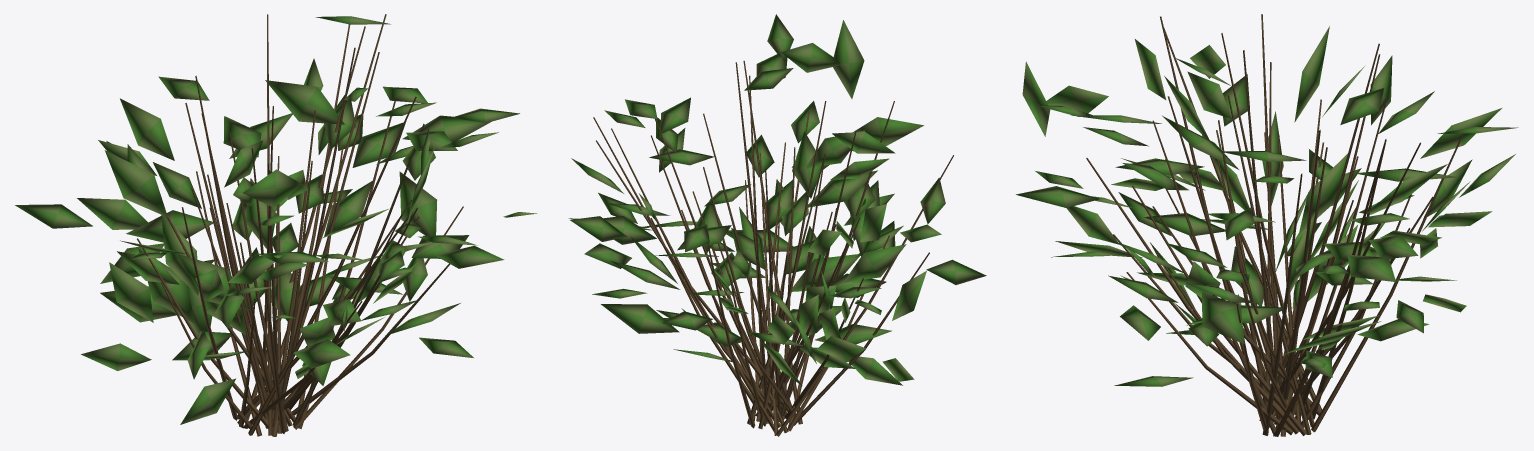
3 views of the same model, side by side, from view 1: azimuth 30°, elevation 25°; view 2: azimuth 150°, elevation 25°; view 3: azimuth 270°, elevation 25° (orthographic). The views are drawn at different scales.
Parts seen in each view (by area): view 1: t12 browser / editable leafy twigs, t12 browser / editable woody branches; view 2: t12 browser / editable leafy twigs, t12 browser / editable woody branches; view 3: t12 browser / editable leafy twigs, t12 browser / editable woody branches.
Boxes of the visible parts, x1,y1,x2,y2 form: t12 browser / editable leafy twigs: [15, 16, 537, 424]; t12 browser / editable woody branches: [137, 14, 463, 436]; t12 browser / editable leafy twigs: [568, 14, 986, 385]; t12 browser / editable woody branches: [593, 60, 953, 436]; t12 browser / editable leafy twigs: [1016, 26, 1518, 386]; t12 browser / editable woody branches: [1086, 14, 1462, 436].
Bounding box in the file's own units: 0.667 × 0.5804 × 0.6479.
